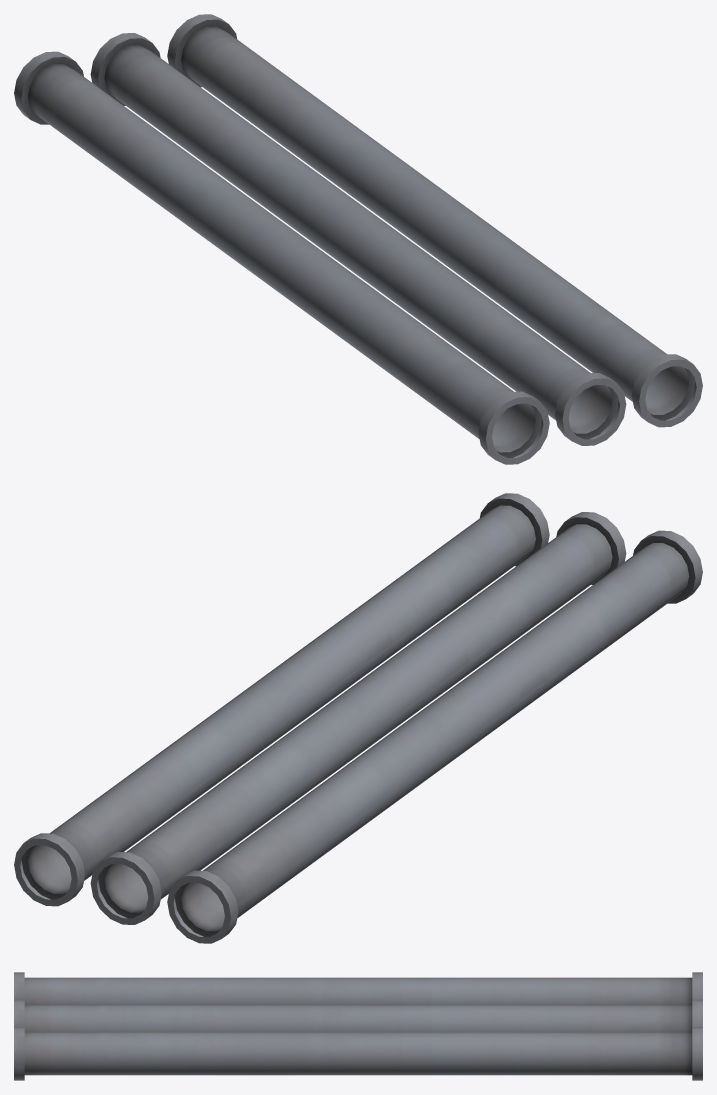
File: props_hydro_3pipe_straight_128.glb
The picture shows the model from 3 angles, top to bottom: view 1: azimuth 30°, elevation 25°; view 2: azimuth 150°, elevation 25°; view 3: azimuth 270°, elevation 25°; orthographic projection. The views are drawn at different scales.
Visible parts, largest first — view 1: models/props_hydro/3pipe_straight_128; view 2: models/props_hydro/3pipe_straight_128; view 3: models/props_hydro/3pipe_straight_128.
Part boxes in pixels (bbox=[...]): models/props_hydro/3pipe_straight_128: bbox=[14, 14, 702, 464]; models/props_hydro/3pipe_straight_128: bbox=[14, 493, 702, 943]; models/props_hydro/3pipe_straight_128: bbox=[14, 972, 702, 1080].
Bounding box in the file's own units: 34.02 × 10.02 × 128.
1 material, 1 textured.
